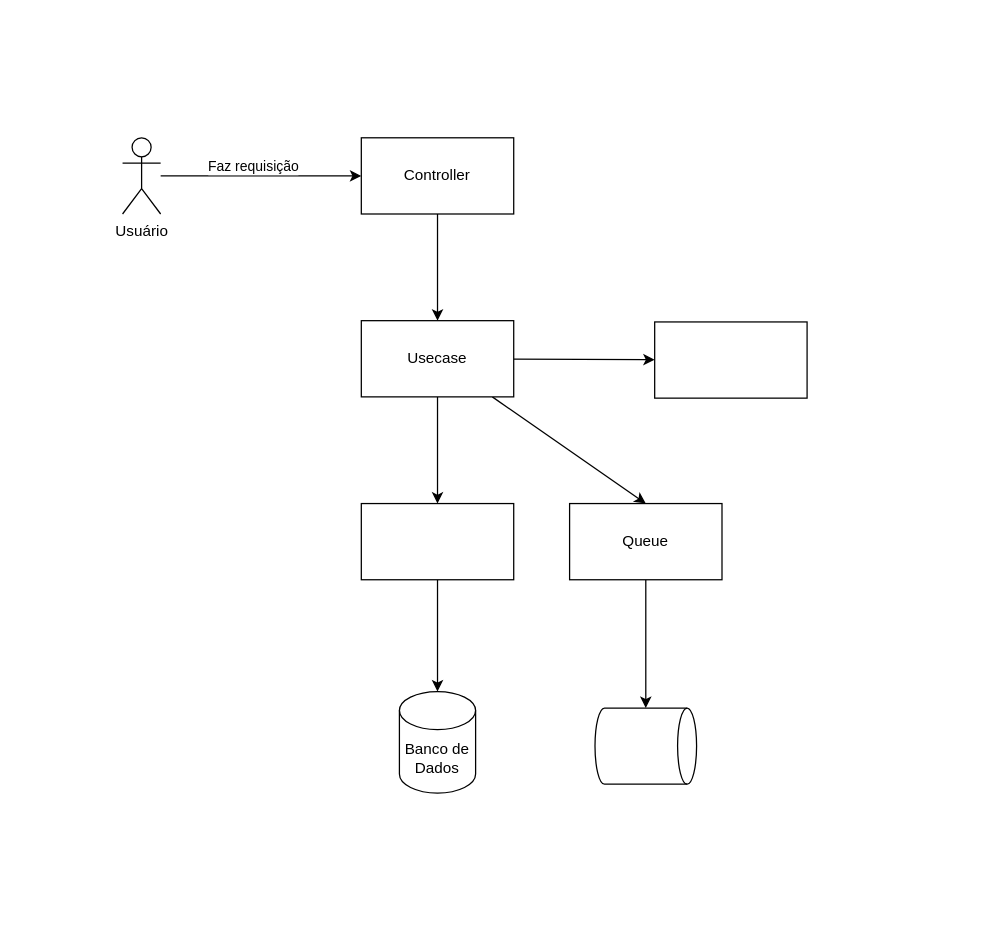
The diagram is 1005 pixels wide and 935 high, and some of its shapes have lost their labels. Each missing label, with the centre of its shape:
"Fila" belongs at (x=645, y=745).
"Repository" belongs at (x=437, y=541).
"Validator" belongs at (x=730, y=359).
